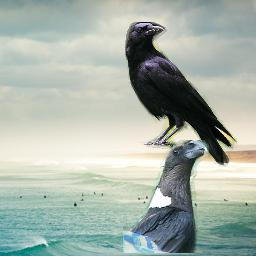Crow: (125, 22, 237, 167), (123, 140, 209, 253)
